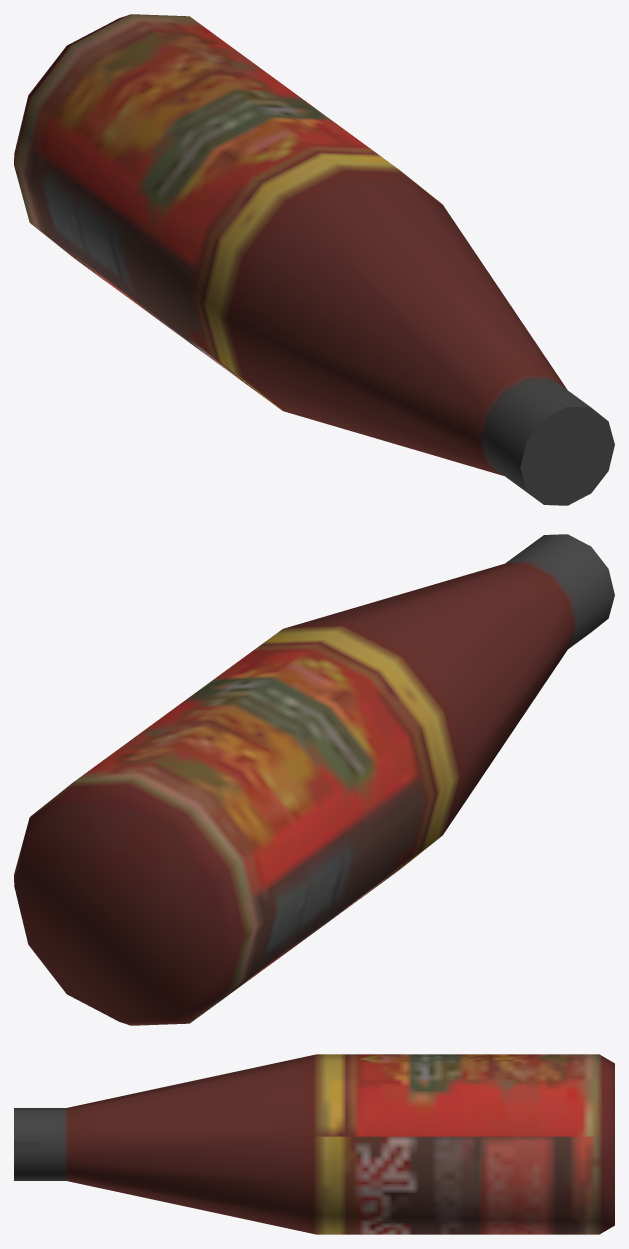
File: p6_pak_food_sauce_01_LOD0.obj
The picture shows the model from 3 angles, top to bottom: view 1: azimuth 30°, elevation 25°; view 2: azimuth 150°, elevation 25°; view 3: azimuth 270°, elevation 25°; orthographic projection. The views are drawn at different scales.
Parts seen in each view (by area): view 1: mtl_p6_yemen_canned_goods; view 2: mtl_p6_yemen_canned_goods; view 3: mtl_p6_yemen_canned_goods.
Part boxes in pixels (bbox=[...]): mtl_p6_yemen_canned_goods: bbox=[14, 14, 614, 505]; mtl_p6_yemen_canned_goods: bbox=[14, 534, 614, 1025]; mtl_p6_yemen_canned_goods: bbox=[14, 1054, 614, 1234].
Size of the model in its own units: 7.27 by 7.27 by 24.11.
